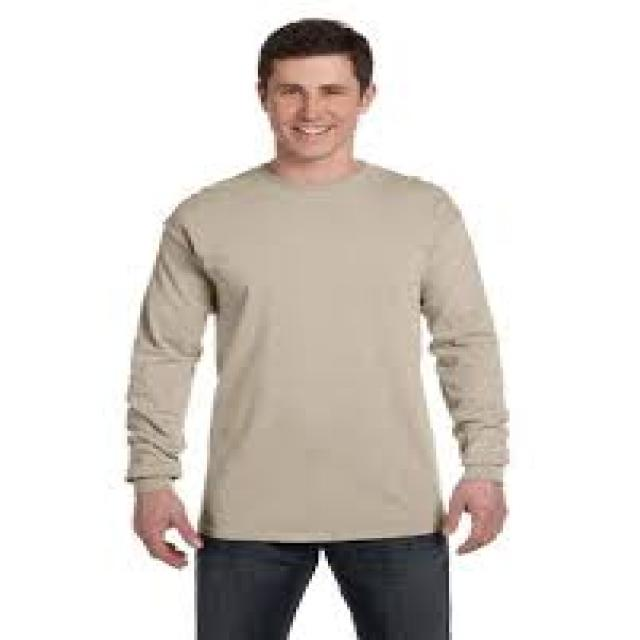plain: (126, 164, 514, 492)
